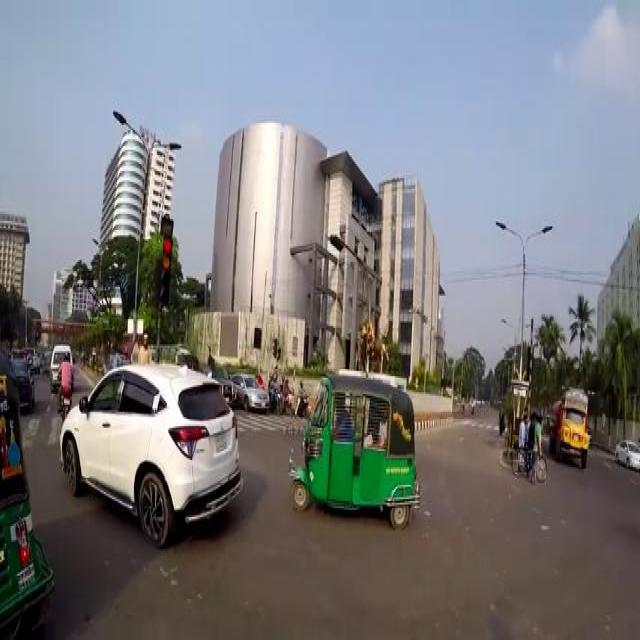bicycle: (509, 438, 547, 480)
car: (58, 363, 240, 534), (230, 371, 268, 408), (11, 357, 34, 408), (613, 437, 631, 463)
motorbike: (57, 380, 71, 417), (282, 388, 296, 412), (270, 386, 282, 411), (296, 390, 308, 414)
suv: (206, 359, 237, 402), (48, 342, 72, 383), (25, 343, 39, 368)
three wheelers -CNG-: (286, 373, 418, 527), (0, 353, 50, 628)
truck: (548, 387, 590, 467)
